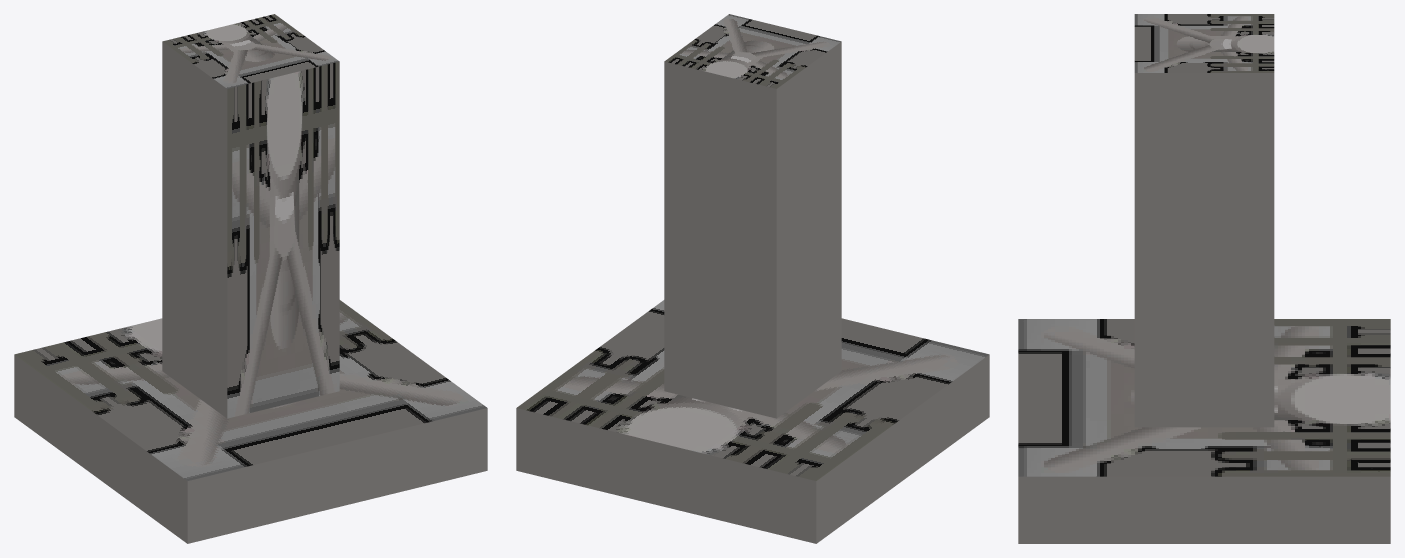
The model's file is Building_BandNode.glb.
3 views of the same model, side by side, from view 1: azimuth 30°, elevation 25°; view 2: azimuth 150°, elevation 25°; view 3: azimuth 270°, elevation 25° (orthographic). The views are drawn at different scales.
Parts seen in each view (by area): view 1: BandNode; view 2: BandNode; view 3: BandNode.
Part boxes in pixels (bbox=[...]): BandNode: bbox=[14, 14, 487, 543]; BandNode: bbox=[516, 14, 989, 543]; BandNode: bbox=[1018, 14, 1390, 543].
Bounding box in the file's own units: 0.8 × 1 × 0.8.
Materials: 1 (1 with a texture image).
